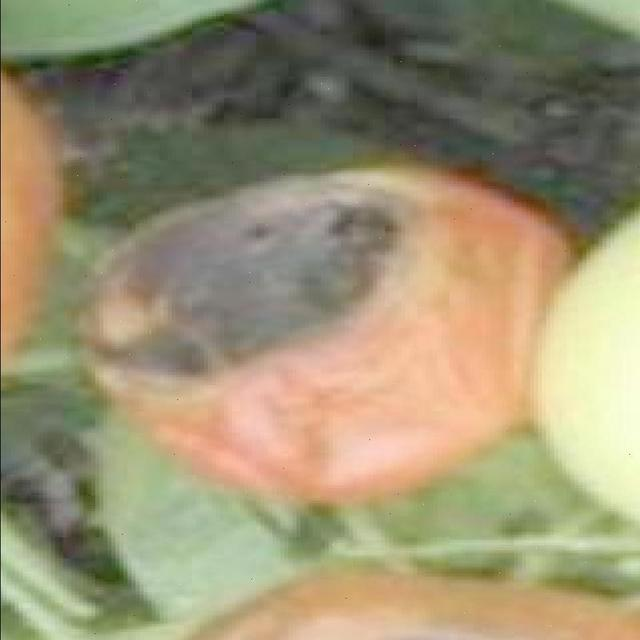Blossom End Rot Fruit: (126, 8, 278, 423)
